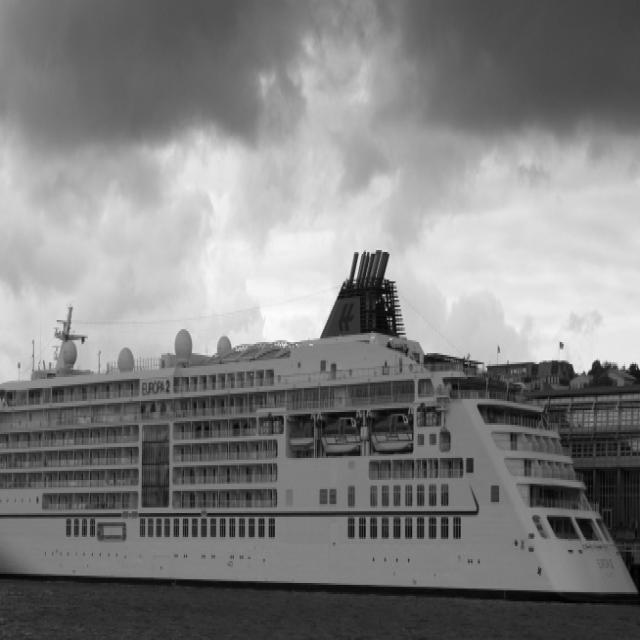cruises: (1, 239, 640, 627)
